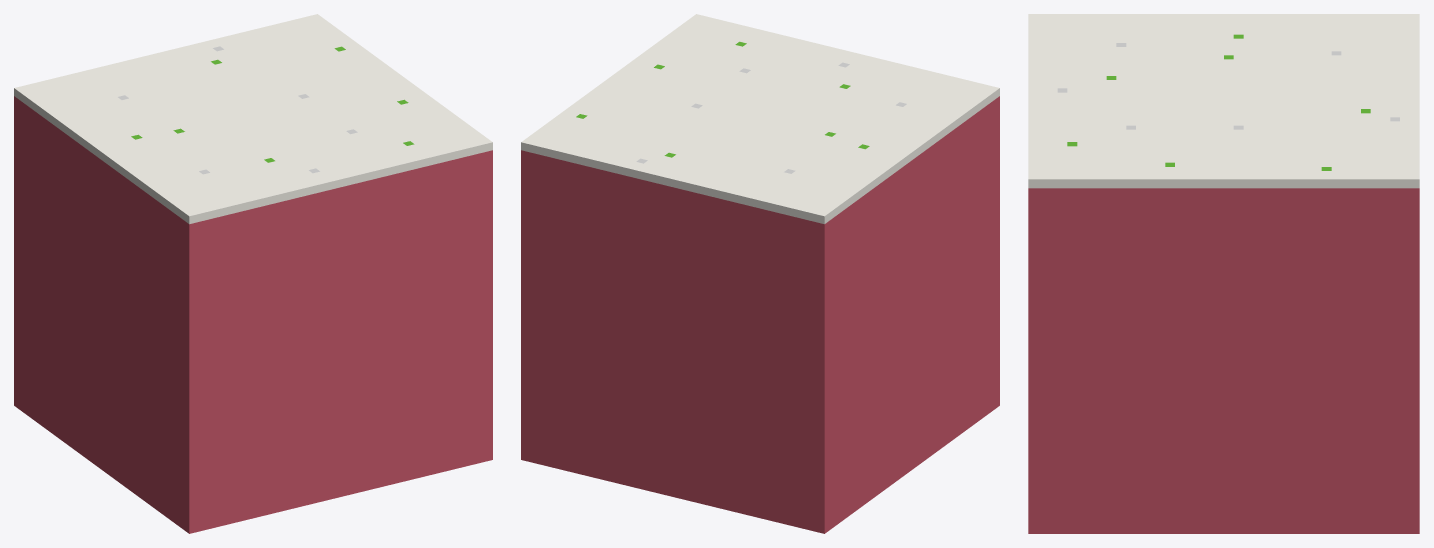
Rendered from Elliot_carpet.obj.
The picture shows the model from 3 angles, left to right: view 1: azimuth 30°, elevation 25°; view 2: azimuth 150°, elevation 25°; view 3: azimuth 270°, elevation 25°; orthographic projection. The views are drawn at different scales.
Visible parts, largest first — view 1: Elliot_carpet; view 2: Elliot_carpet; view 3: Elliot_carpet.
Boxes of the visible parts, <box> form: Elliot_carpet: <box>14,14,492,533</box>; Elliot_carpet: <box>521,14,999,533</box>; Elliot_carpet: <box>1028,14,1419,533</box>.
Bounding box in the file's own units: 40 × 40 × 40.
1 material, 1 textured.
